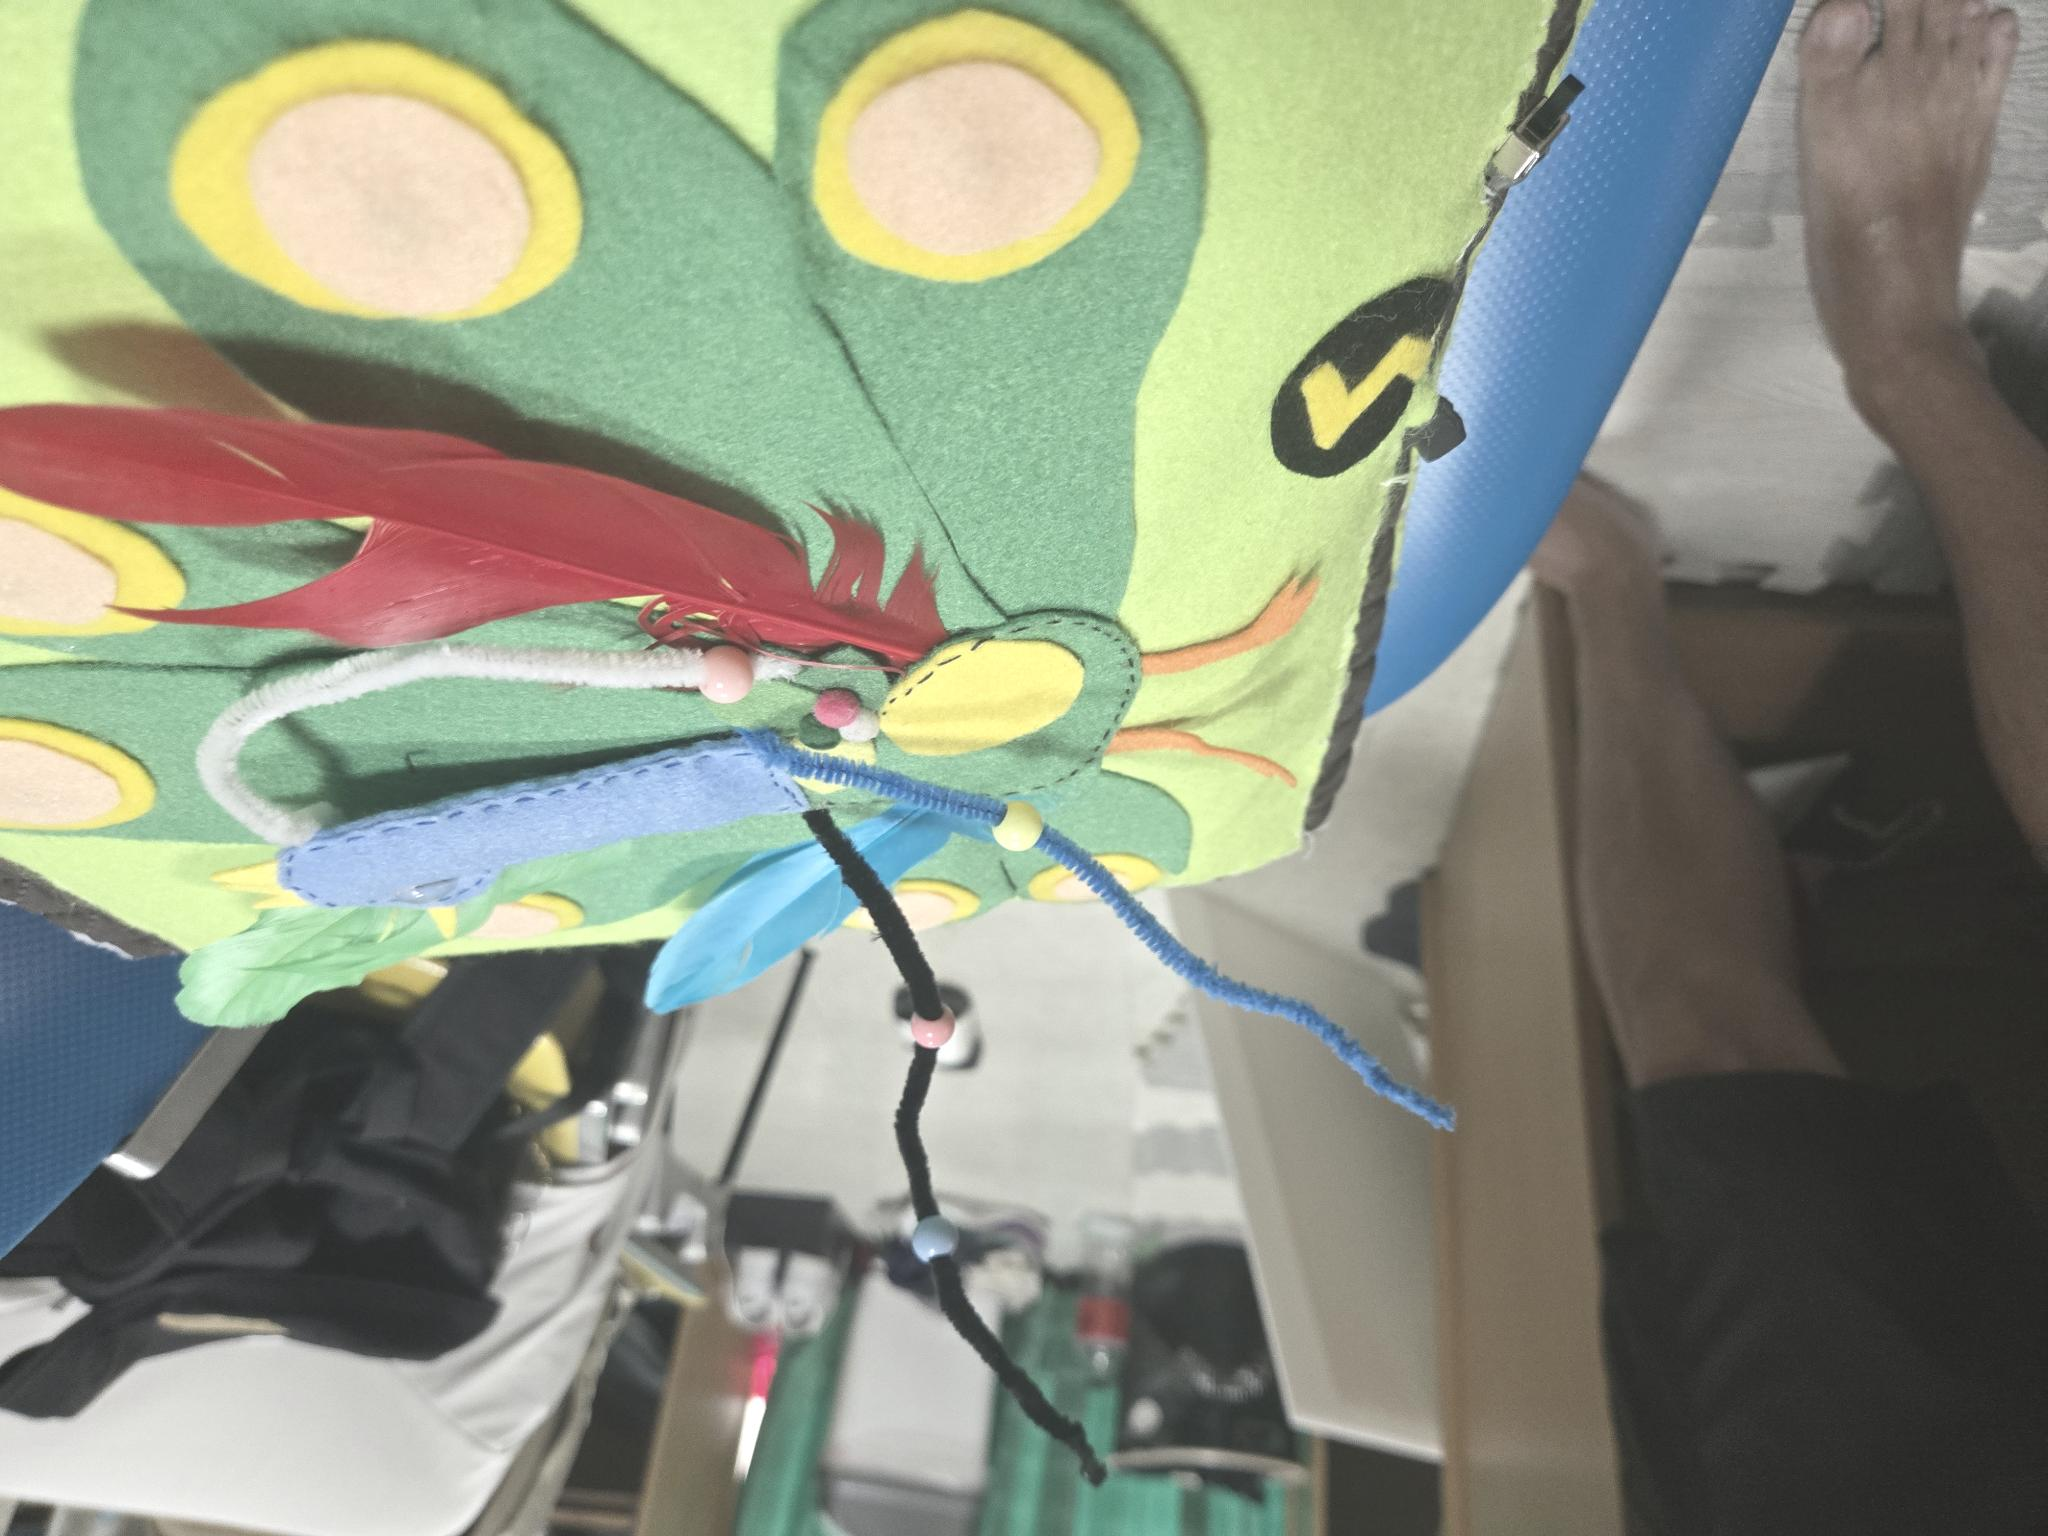bead: (887, 1205, 968, 1271), (697, 644, 766, 716), (895, 1000, 971, 1060), (984, 795, 1055, 857)
